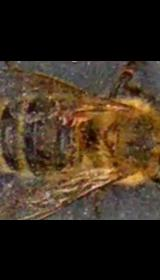varroa_mite: (52, 105, 79, 131)
